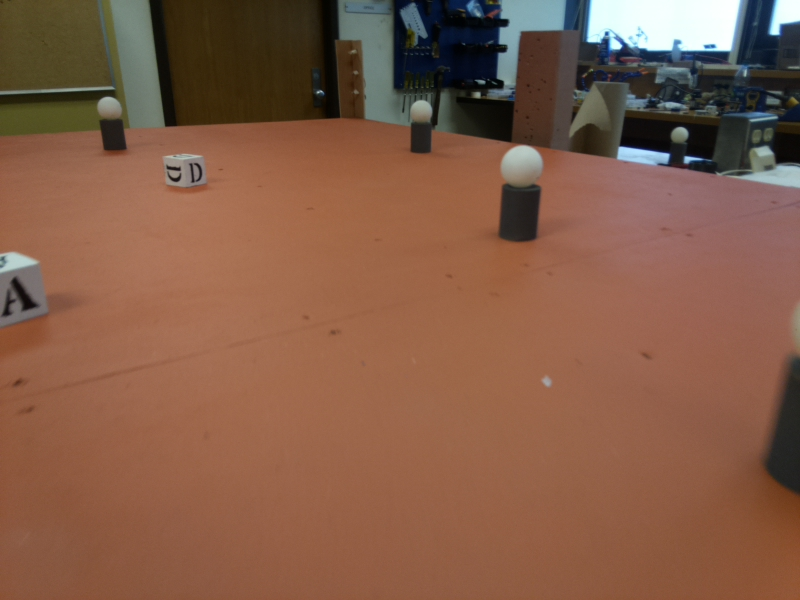blockA: (1, 246, 56, 319)
blockD: (163, 151, 210, 190)
corner: (336, 42, 365, 115)
obstacle: (496, 143, 551, 240), (96, 95, 127, 155), (411, 100, 435, 154)
